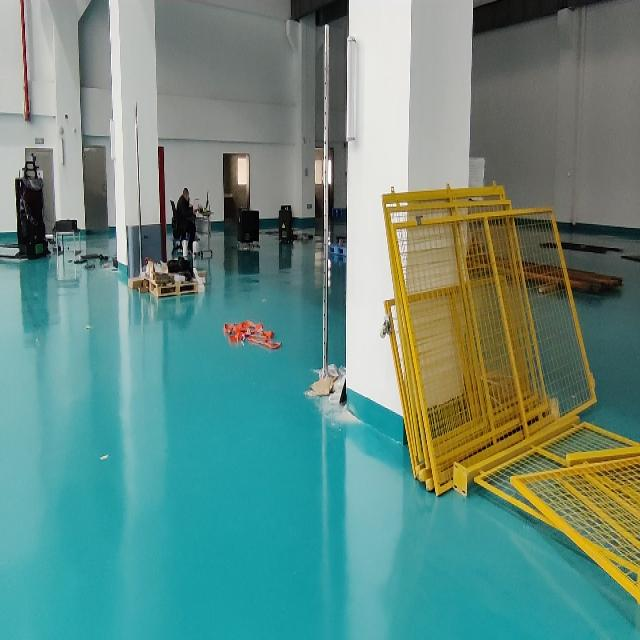euro: (145, 280, 204, 298)
